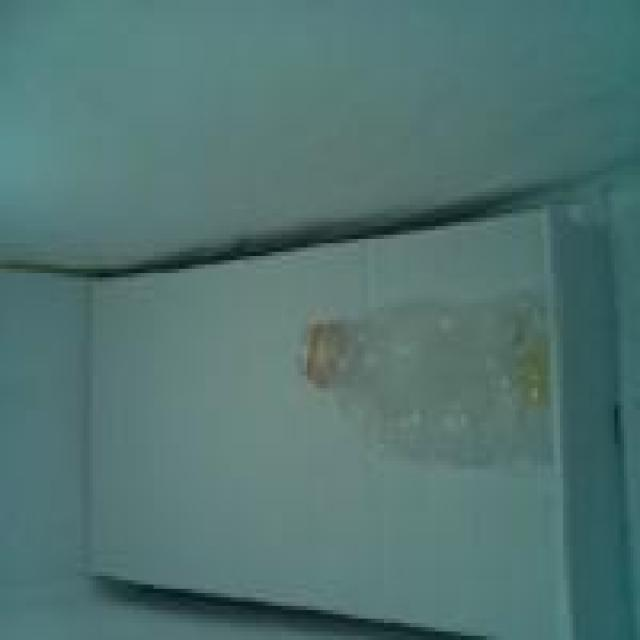bottle: (281, 291, 580, 448)
